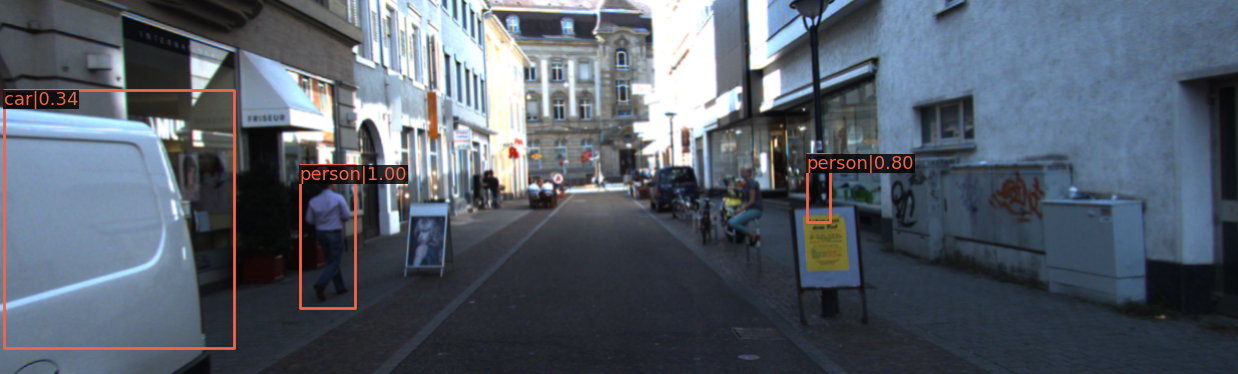person: (307, 169, 361, 304), (812, 156, 841, 233)
